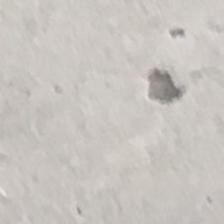Non_Crack: (0, 110, 214, 221)
